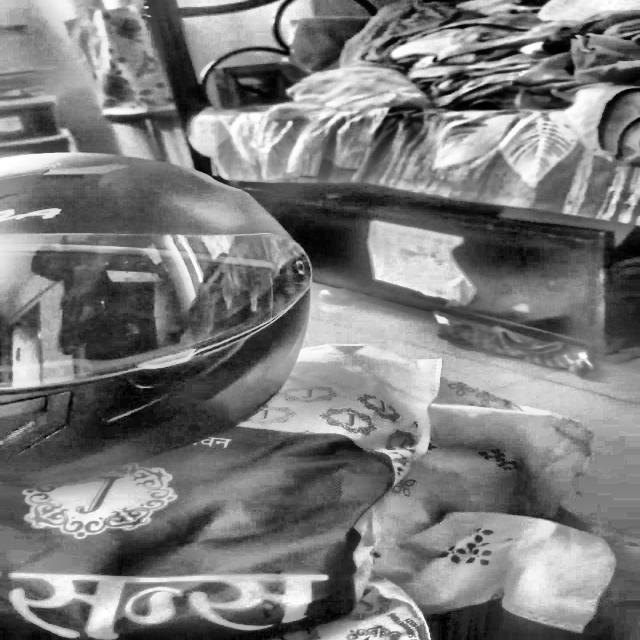Helmet: (0, 147, 314, 490)
